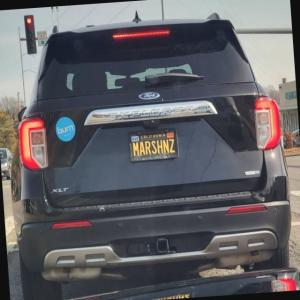Plate: (127, 126, 180, 163)
